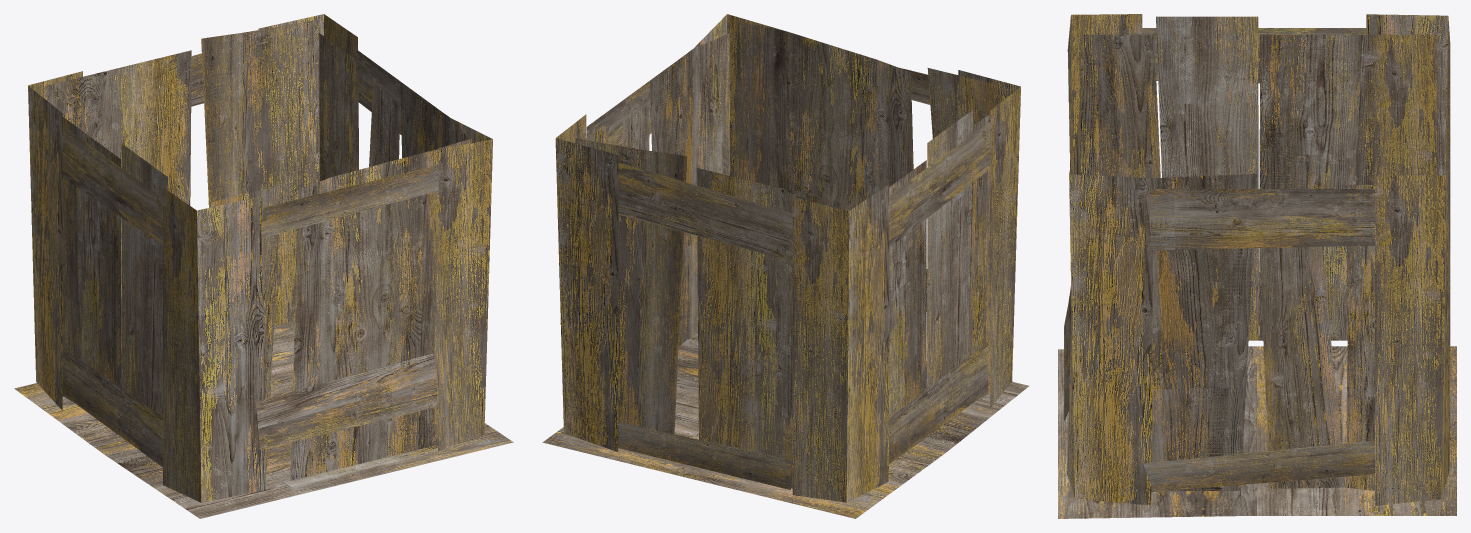
File: Chest3_LOD1.fbx
The picture shows the model from 3 angles, left to right: view 1: azimuth 30°, elevation 25°; view 2: azimuth 150°, elevation 25°; view 3: azimuth 270°, elevation 25°; orthographic projection. The views are drawn at different scales.
Parts seen in each view (by area): view 1: polySurface855; view 2: polySurface855; view 3: polySurface855.
Boxes of the visible parts, x1,y1,x2,y2 form: polySurface855: (14, 14, 513, 518); polySurface855: (542, 14, 1028, 518); polySurface855: (1058, 14, 1456, 518).
Size of the model in its own units: 1.11 by 1.04 by 1.08.
